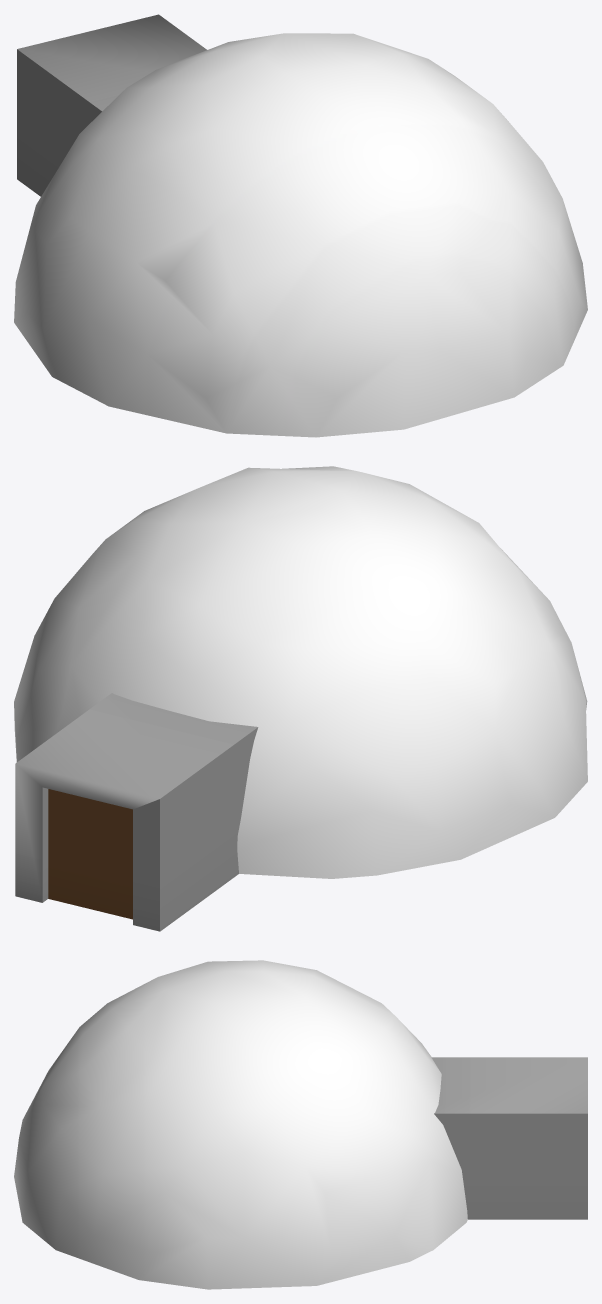
The model's file is Dome.FBX.
The picture shows the model from 3 angles, top to bottom: view 1: azimuth 30°, elevation 25°; view 2: azimuth 150°, elevation 25°; view 3: azimuth 270°, elevation 25°; orthographic projection. The views are drawn at different scales.
Visible parts, largest first — view 1: GeoSphere001; view 2: GeoSphere001; view 3: GeoSphere001.
Part boxes in pixels (x1,y1,x2,y2): GeoSphere001: [14, 14, 587, 437]; GeoSphere001: [14, 466, 587, 931]; GeoSphere001: [14, 960, 587, 1289].
Bounding box in the file's own units: 19.08 × 9.51 × 23.59.
